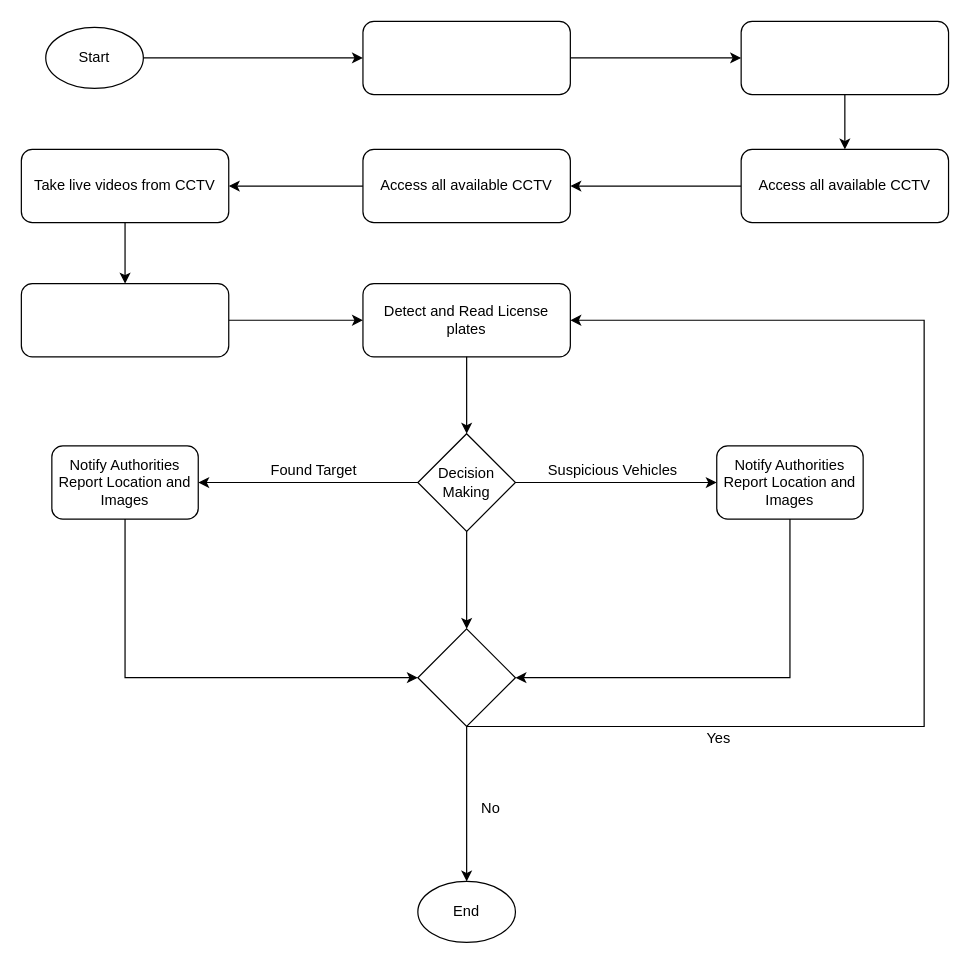
Image size: 970x964. Some labels were removed from this diagram. Here are the shapes that lost their labels. From the top down, the centre of each, then its label:
pixel 466 57: Intake information (Car brand, License Plate)
pixel 844 57: Search Target Begins
pixel 124 319: Split images frame by frame
pixel 466 677: Keep Tracking
